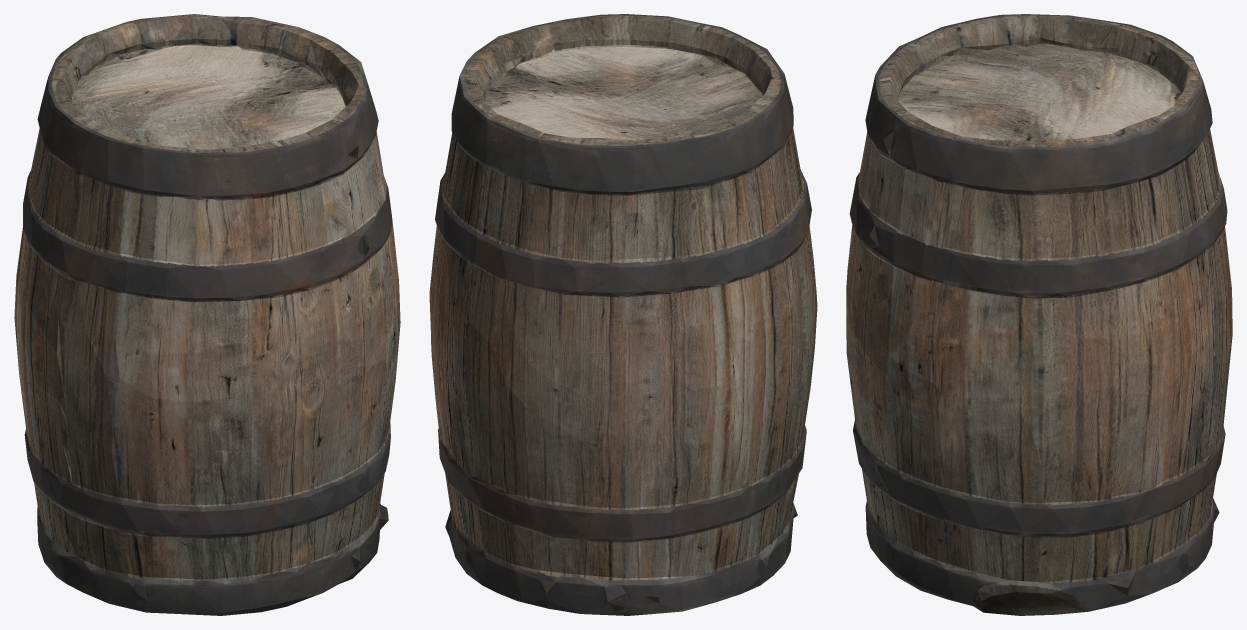
The model's file is barrel.fbx.
The picture shows the model from 3 angles, left to right: view 1: azimuth 30°, elevation 25°; view 2: azimuth 150°, elevation 25°; view 3: azimuth 270°, elevation 25°; orthographic projection.
Parts seen in each view (by area): view 1: Mesh_0; view 2: Mesh_0; view 3: Mesh_0.
Part boxes in pixels (x1,y1,x2,y2): Mesh_0: (14,14,400,615); Mesh_0: (429,14,817,615); Mesh_0: (846,14,1232,615).
Bounding box in the file's own units: 0.7408 × 1 × 0.7491.
1 material, 1 textured.
